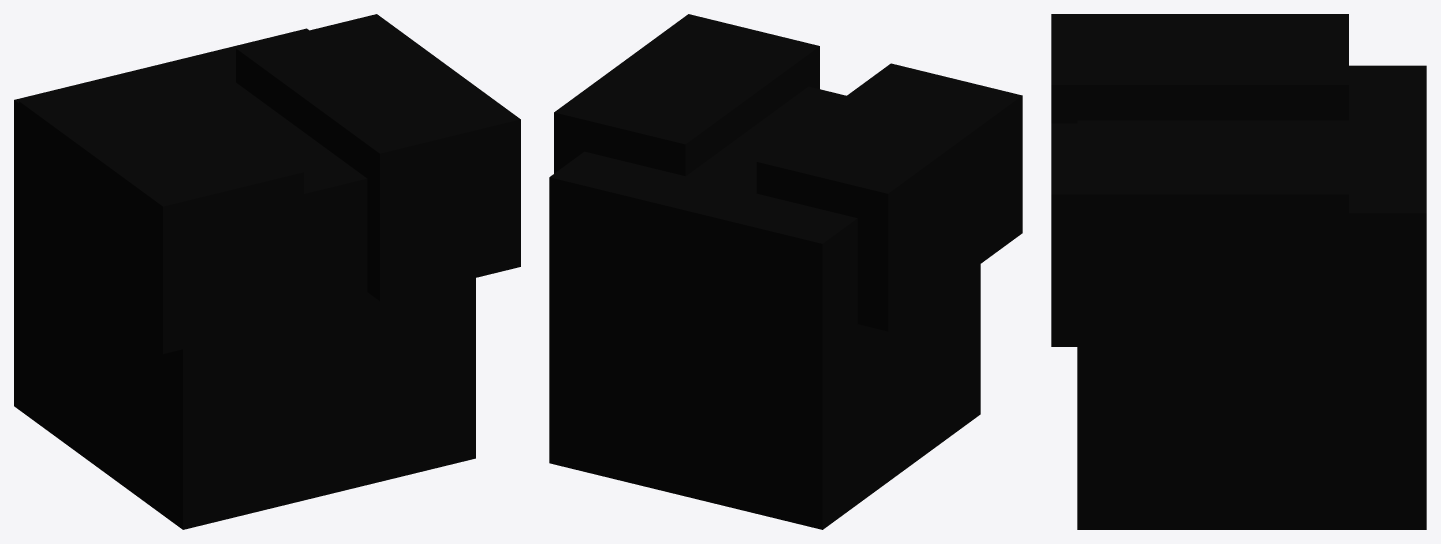
File: hair-0002.gltf
3 views of the same model, side by side, from view 1: azimuth 30°, elevation 25°; view 2: azimuth 150°, elevation 25°; view 3: azimuth 270°, elevation 25° (orthographic). The views are drawn at different scales.
Parts seen in each view (by area): view 1: hair-0002-geo, hair-0002-curl-2-geo, hair-0002-curl-geo; view 2: hair-0002-geo, hair-0002-curl-2-geo, hair-0002-curl-geo; view 3: hair-0002-geo, hair-0002-curl-geo, hair-0002-curl-2-geo.
Boxes of the visible parts, x1,y1,x2,y2 form: hair-0002-geo: (14, 28, 475, 529); hair-0002-curl-2-geo: (19, 67, 303, 353); hair-0002-curl-geo: (236, 14, 520, 300); hair-0002-geo: (549, 86, 980, 529); hair-0002-curl-2-geo: (756, 63, 1022, 331); hair-0002-curl-geo: (554, 14, 819, 176); hair-0002-geo: (1077, 65, 1426, 529); hair-0002-curl-geo: (1051, 123, 1348, 346); hair-0002-curl-2-geo: (1051, 14, 1348, 123).
Bounding box in the file's own units: 0.5156 × 0.4688 × 0.4531.
1 material, 1 textured.
